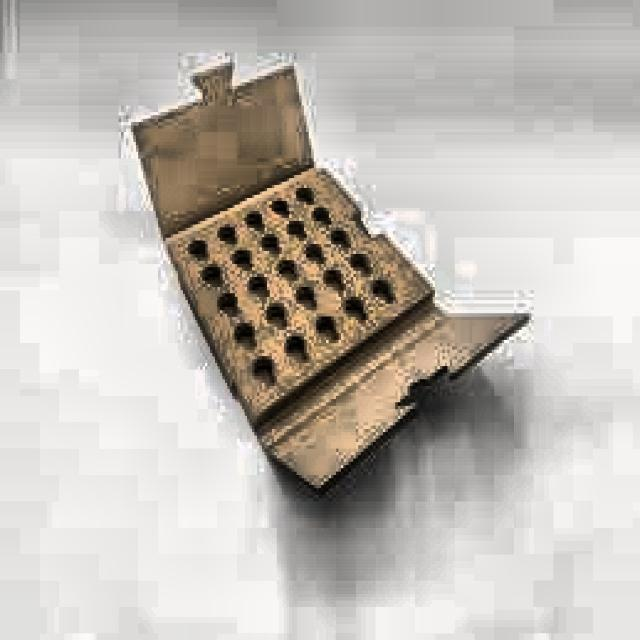Cardbox: (105, 44, 538, 532)
